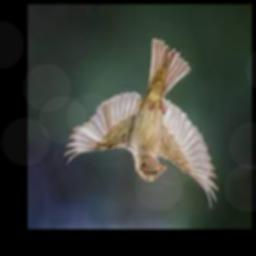Sparrow: (63, 39, 218, 208)
